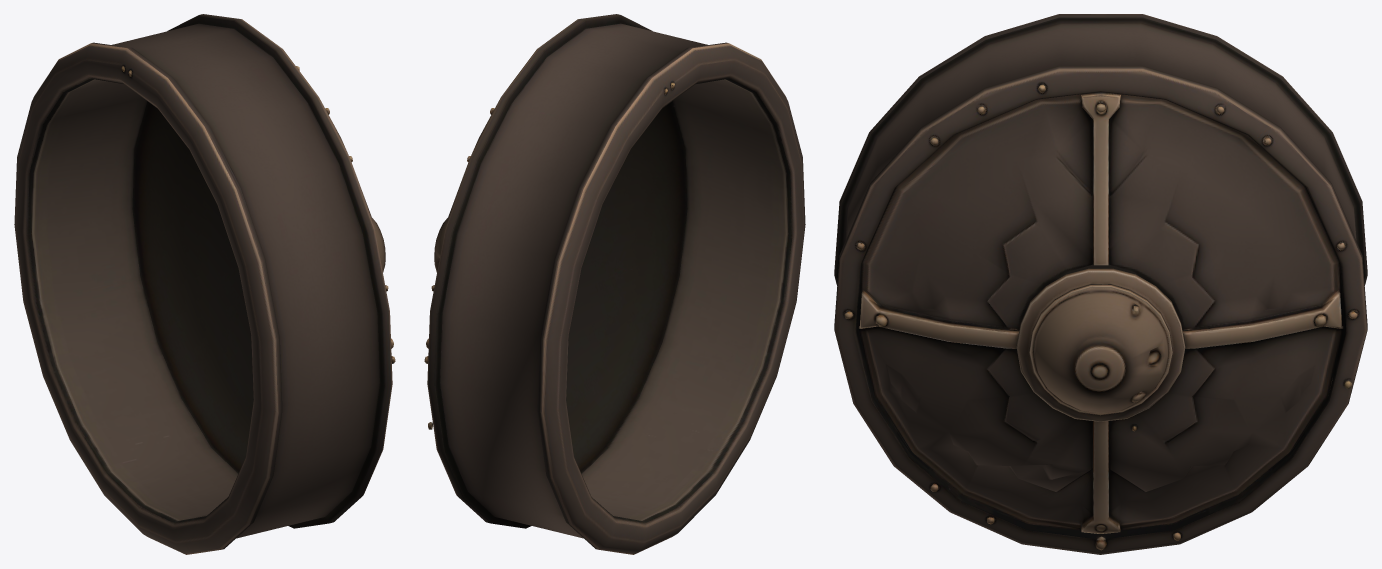
Rendered from ratskin_round.glb.
3 views of the same model, side by side, from view 1: azimuth 30°, elevation 25°; view 2: azimuth 150°, elevation 25°; view 3: azimuth 270°, elevation 25° (orthographic). The views are drawn at different scales.
Parts seen in each view (by area): view 1: base_model_path; view 2: base_model_path; view 3: base_model_path.
Boxes of the visible parts, left/top/right/bottom form: base_model_path: left=14, top=14, right=395, bottom=554; base_model_path: left=424, top=14, right=805, bottom=554; base_model_path: left=834, top=14, right=1367, bottom=554.
Size of the model in its own units: 0.5303 by 0.9901 by 0.9843.
1 material, 1 textured.
